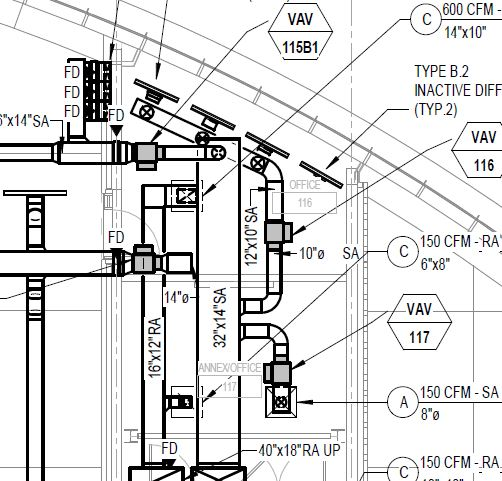VAV: (128, 227, 166, 283), (134, 126, 172, 181), (259, 215, 298, 254), (264, 353, 306, 389)
